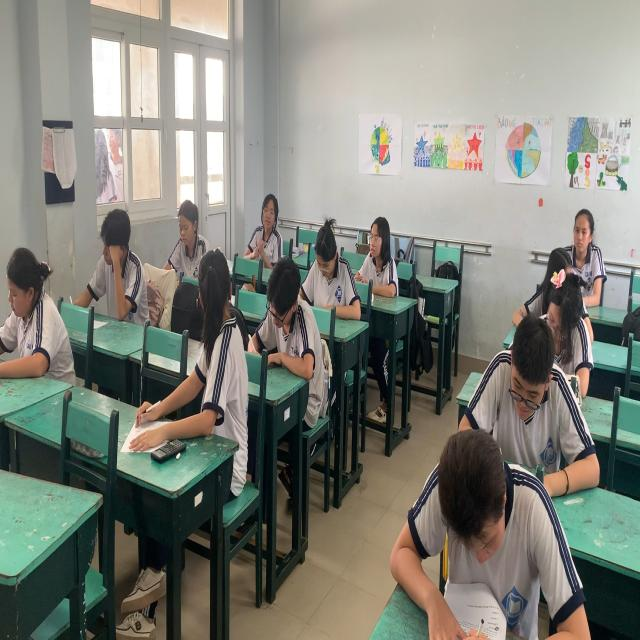cheating: (190, 244, 251, 437)
not_cheating: (393, 413, 544, 640), (490, 309, 567, 482), (0, 243, 72, 378), (544, 265, 606, 409), (260, 251, 320, 385), (89, 199, 145, 319), (309, 222, 361, 326), (568, 205, 610, 316), (354, 212, 398, 302), (239, 192, 285, 270), (167, 192, 204, 264)
